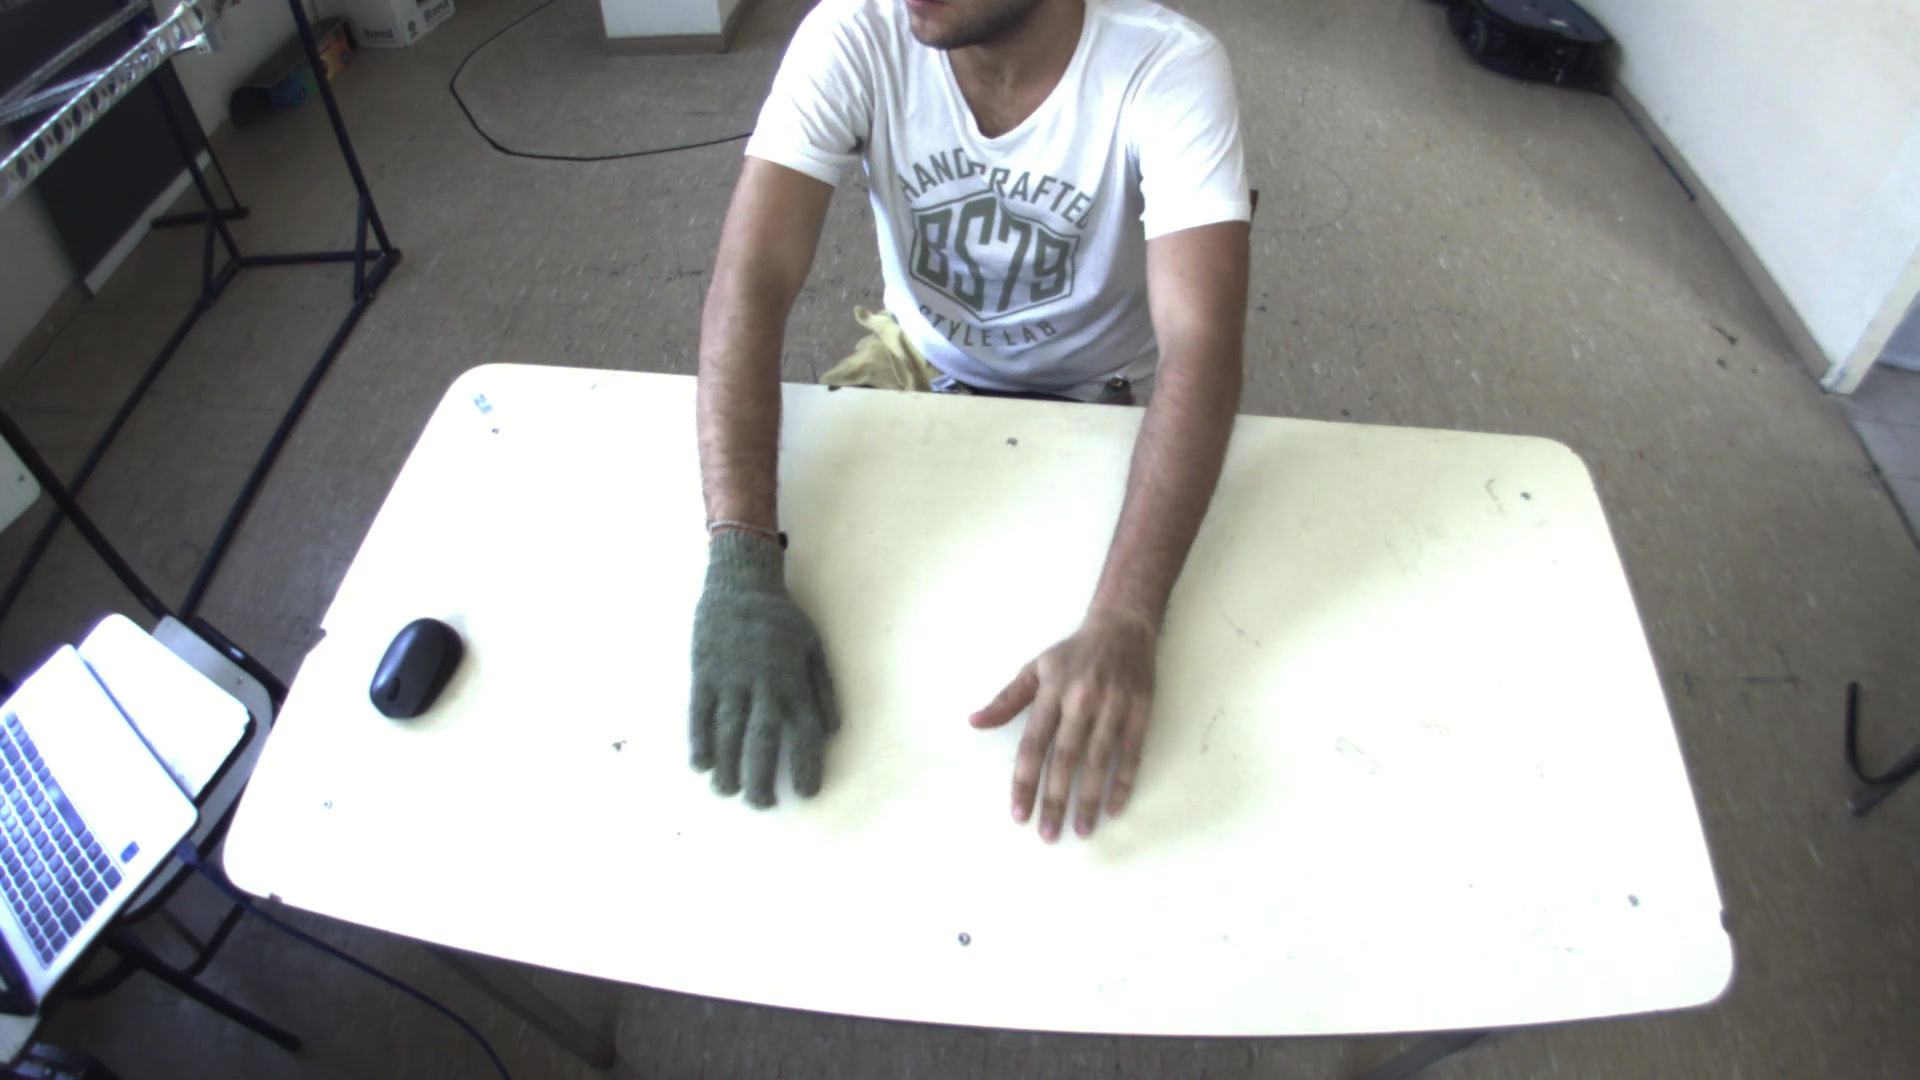hand: (670, 512, 844, 815), (960, 605, 1178, 840)
